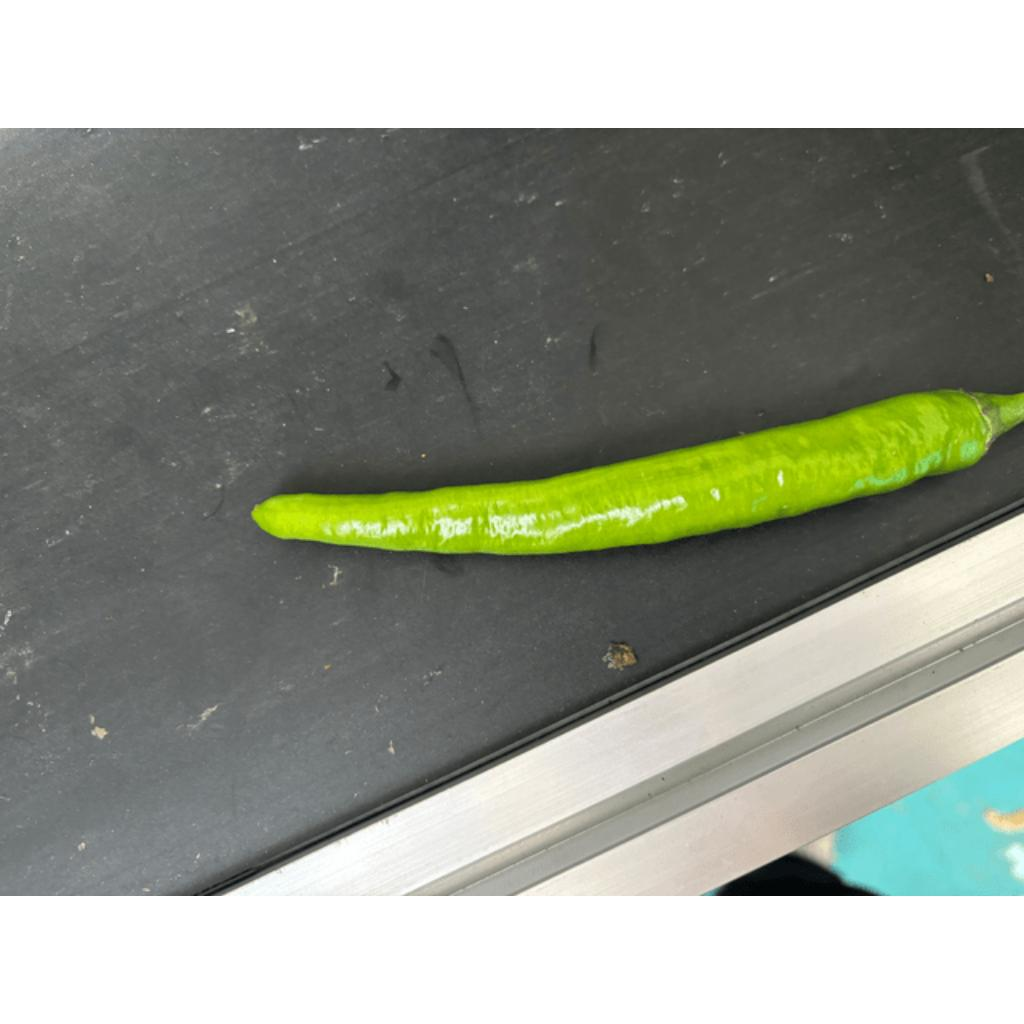chili: (244, 385, 1007, 558)
